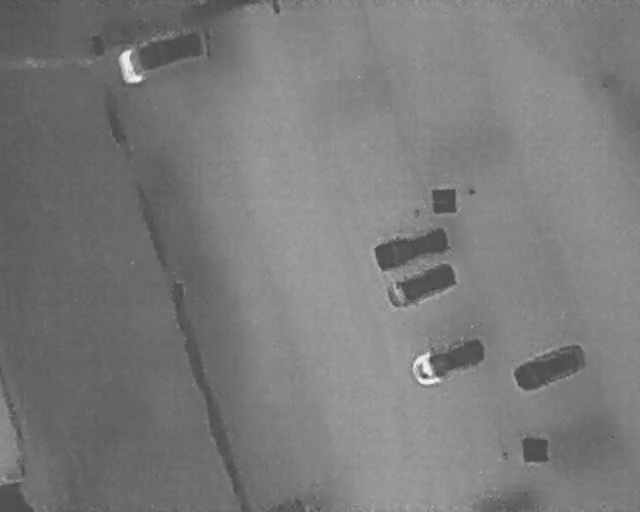Car: (114, 22, 214, 87), (407, 329, 490, 390), (511, 339, 592, 396), (383, 258, 460, 313), (372, 224, 451, 273)
